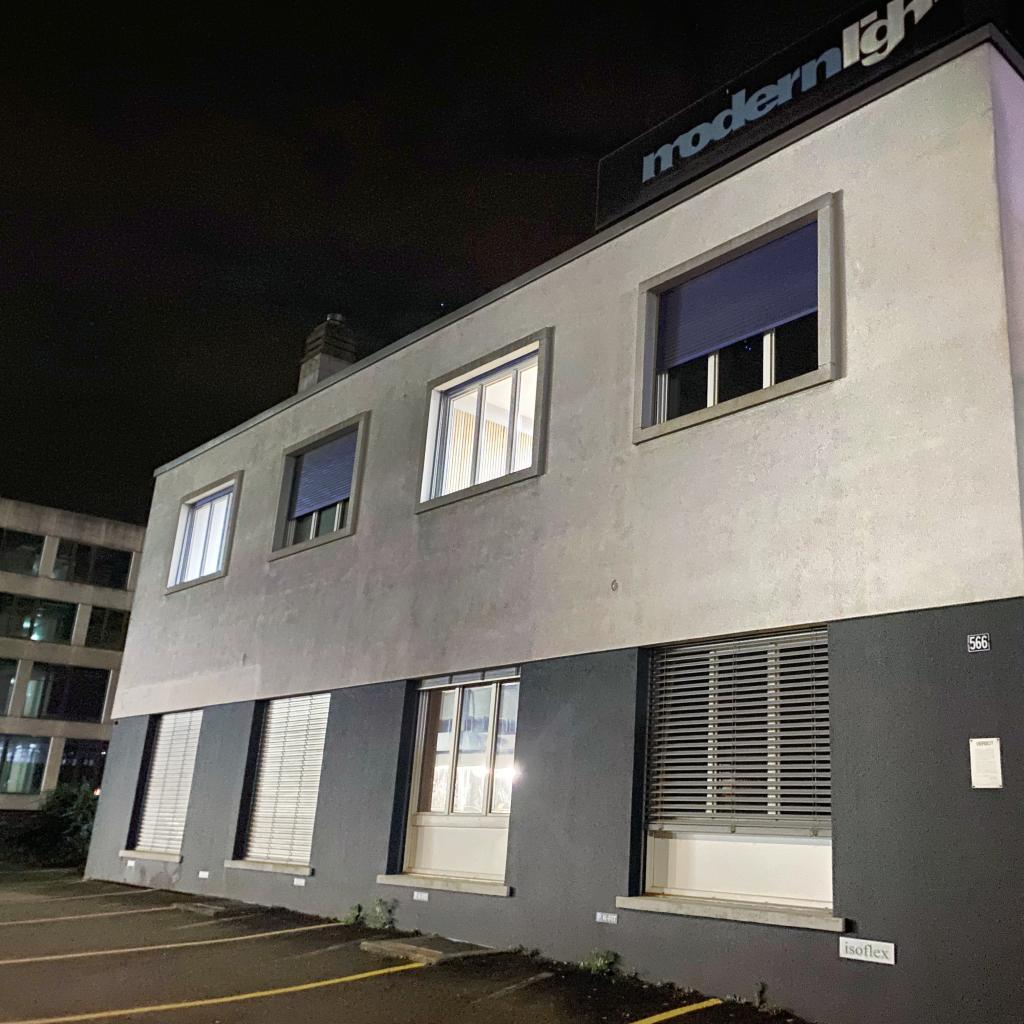facade: (0, 0, 1024, 1023)
street: (0, 870, 818, 1024)
vegetation: (0, 779, 101, 872)
window: (638, 626, 834, 911), (649, 215, 818, 427), (396, 666, 525, 881), (428, 350, 538, 501), (237, 690, 331, 865), (129, 708, 205, 856), (280, 427, 358, 550), (173, 486, 233, 585), (22, 662, 112, 725), (51, 540, 135, 591), (0, 592, 79, 646), (0, 732, 51, 796), (56, 739, 109, 797), (0, 528, 46, 577), (84, 606, 132, 652), (0, 656, 19, 717)
